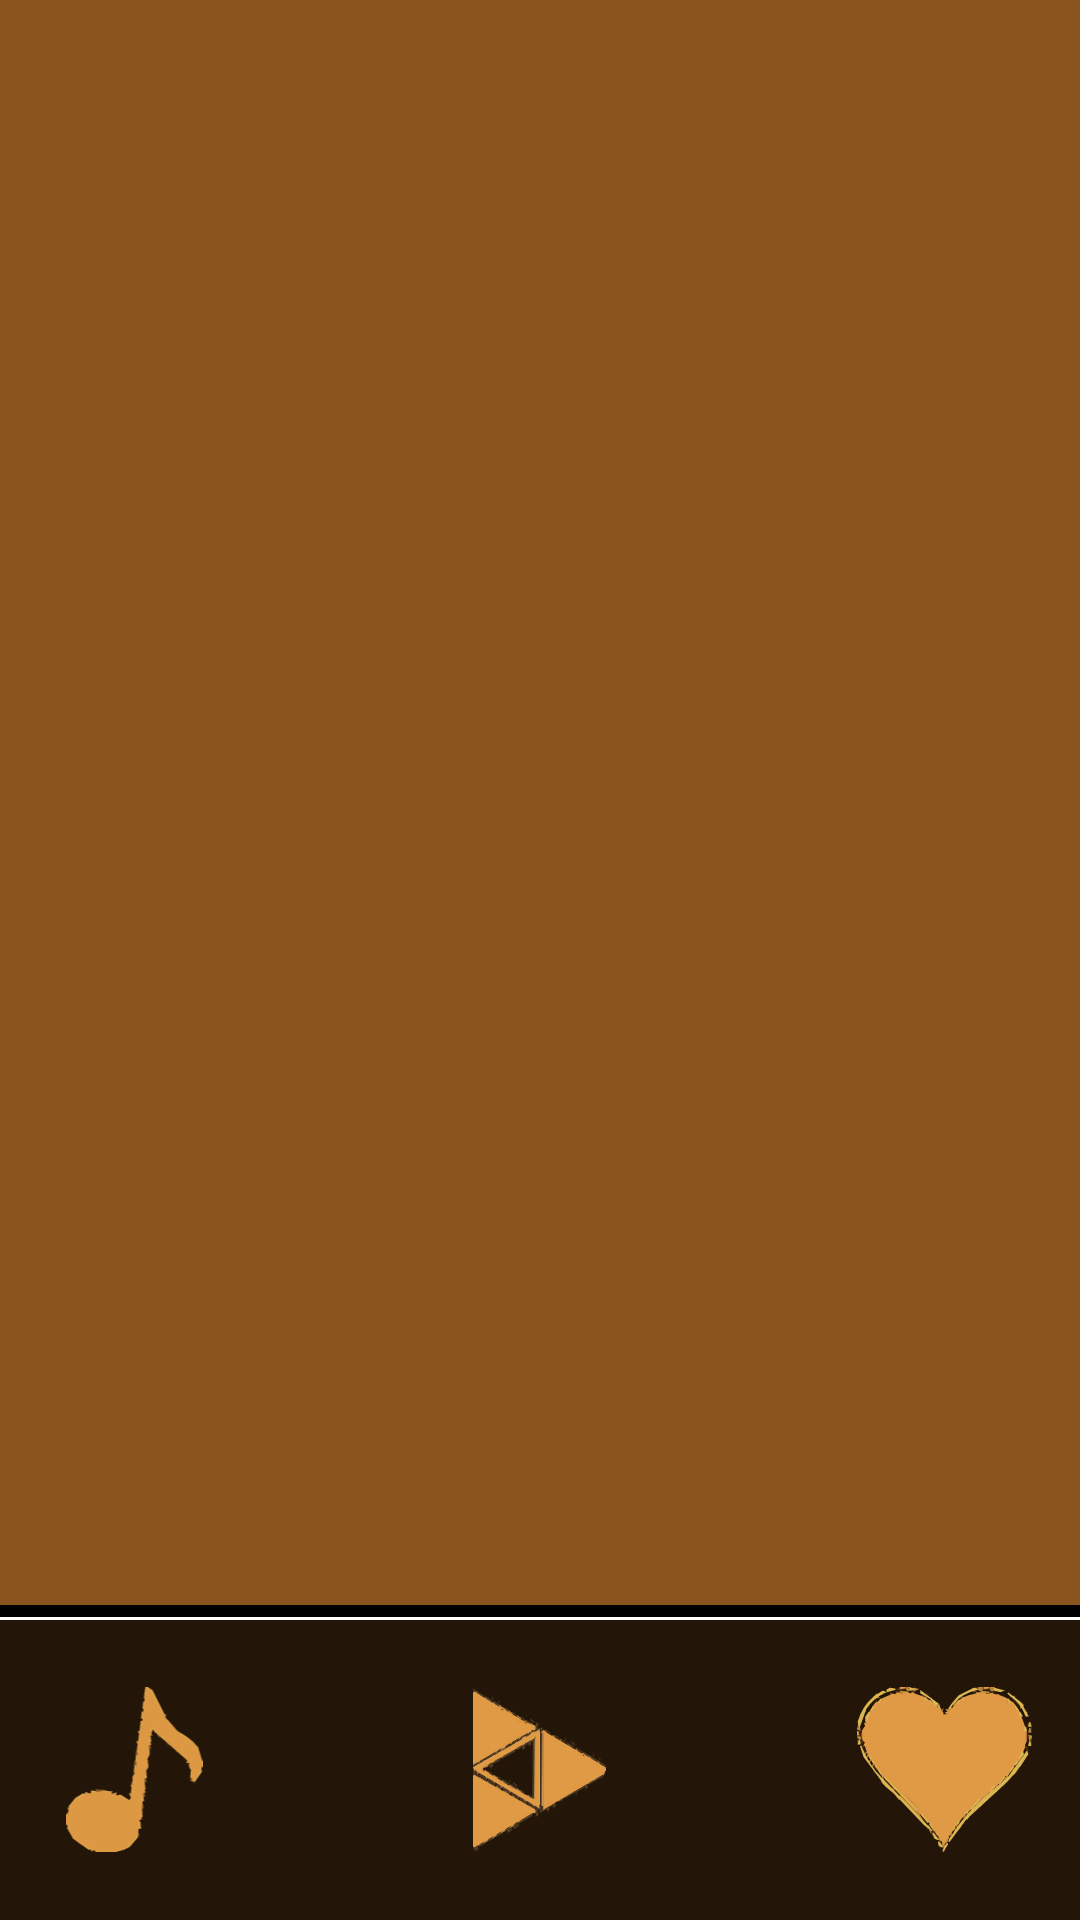

Where to tap for icons on this 1080px x 1920px app screen, as point (x, y):
Избранное: point (944, 1769)
